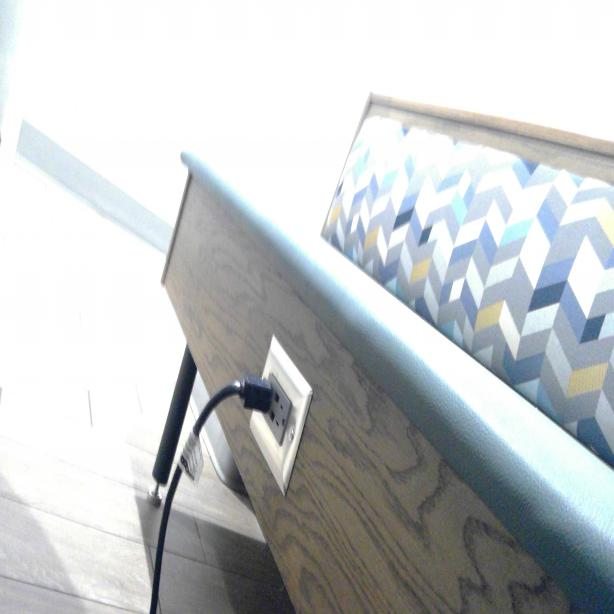typeb: (274, 401, 286, 435)
